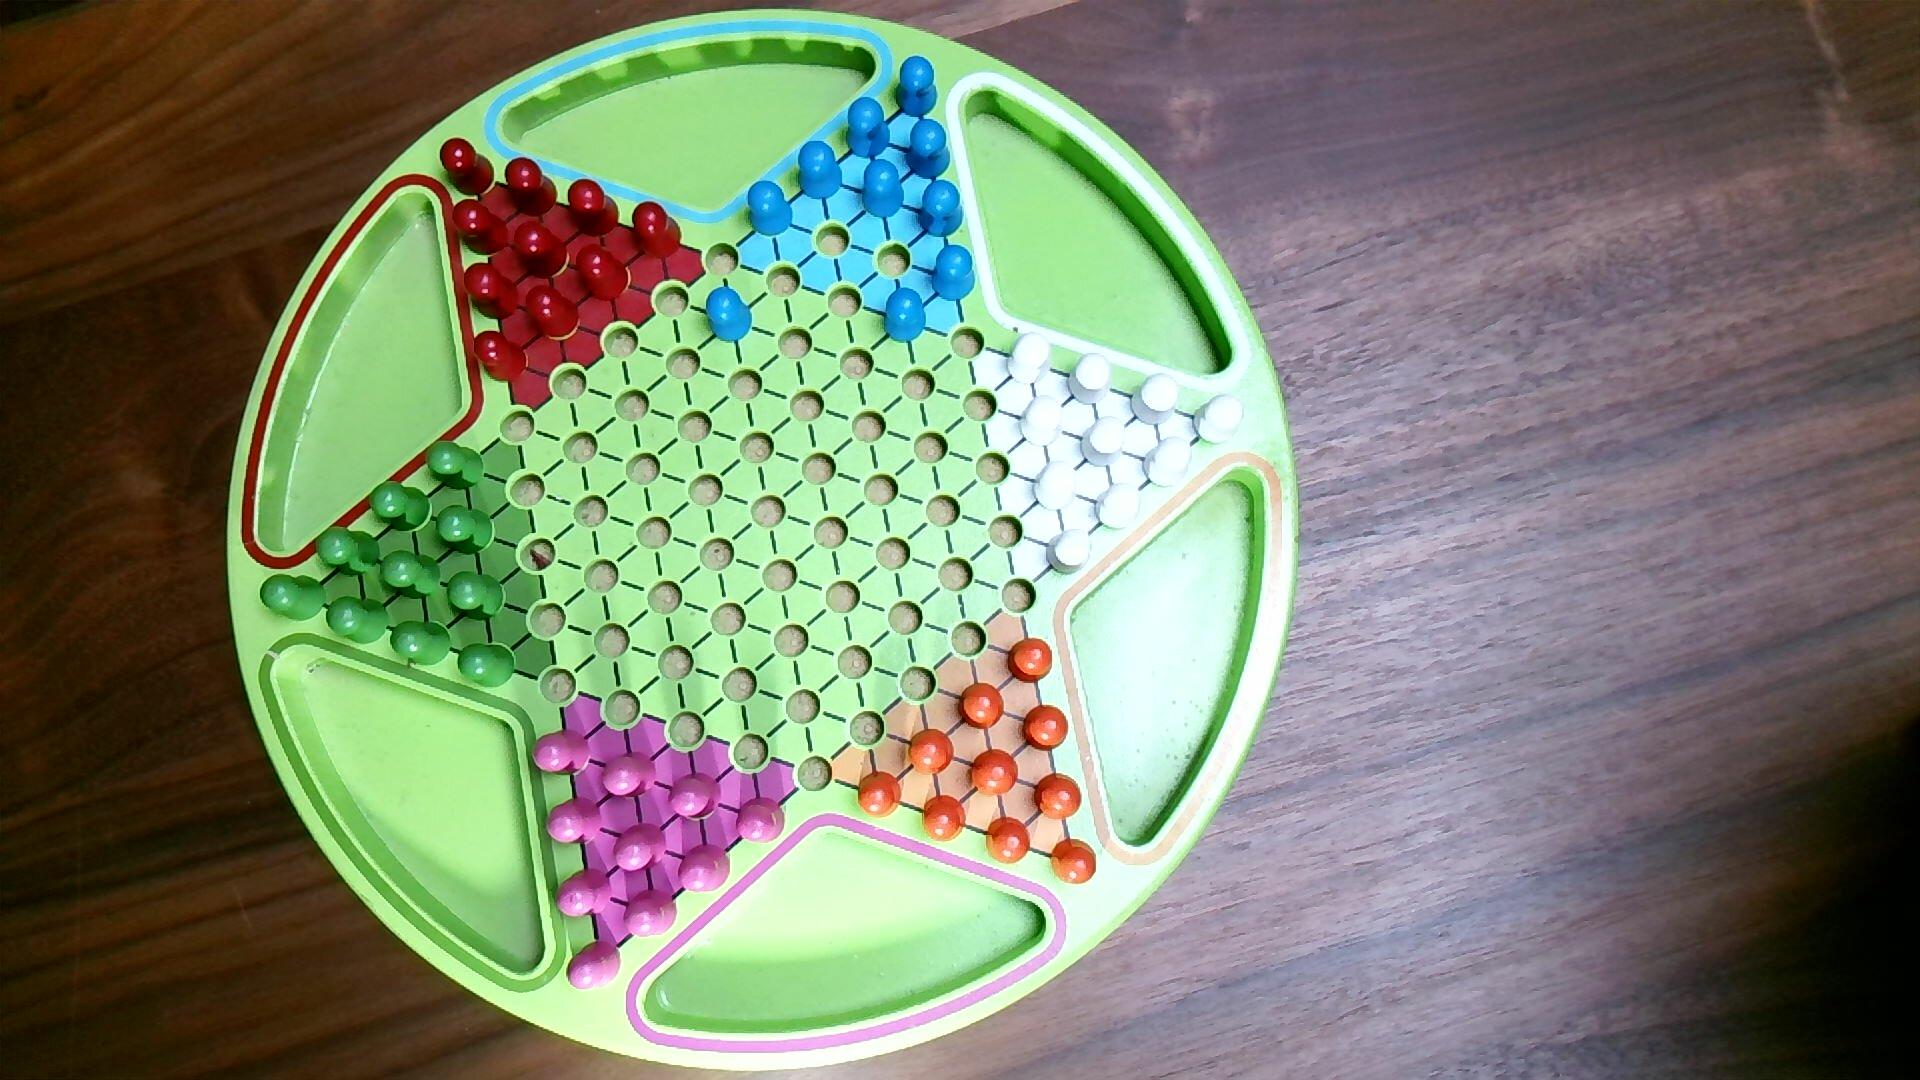B: (905, 117, 953, 181), (918, 178, 967, 240), (796, 138, 844, 202), (844, 98, 891, 161), (893, 55, 939, 120), (746, 179, 795, 239), (860, 160, 906, 222), (705, 287, 754, 345), (931, 244, 978, 303), (884, 287, 928, 345)
G: (314, 525, 381, 579), (258, 572, 327, 624), (367, 481, 433, 533), (326, 595, 390, 646), (378, 550, 442, 601), (446, 570, 506, 622), (390, 618, 454, 669), (435, 504, 495, 556), (425, 440, 485, 492), (458, 642, 517, 690)
O: (1033, 771, 1085, 822), (971, 748, 1021, 799), (1048, 837, 1098, 887), (1021, 703, 1069, 754), (957, 680, 1006, 731), (907, 728, 956, 777), (857, 770, 905, 820), (1007, 636, 1055, 686), (985, 816, 1033, 866), (920, 794, 967, 845)
R: (502, 157, 560, 219), (451, 199, 512, 257), (439, 137, 497, 198), (463, 262, 521, 322), (574, 243, 632, 302), (513, 219, 570, 280), (567, 178, 621, 239), (524, 285, 582, 340), (632, 200, 683, 261), (473, 330, 527, 384)
R2: (554, 866, 613, 920), (531, 728, 593, 778), (612, 822, 669, 876), (564, 939, 622, 992), (622, 887, 680, 940), (545, 796, 604, 848), (667, 771, 724, 824), (600, 750, 659, 800), (676, 843, 732, 895), (735, 795, 787, 845)
W: (1193, 393, 1247, 448), (1141, 435, 1193, 491), (1130, 372, 1182, 429), (1005, 331, 1054, 386), (1067, 352, 1113, 407), (1019, 394, 1065, 450), (1044, 527, 1095, 578), (1095, 481, 1143, 533), (1033, 460, 1079, 514), (1081, 415, 1127, 468)
